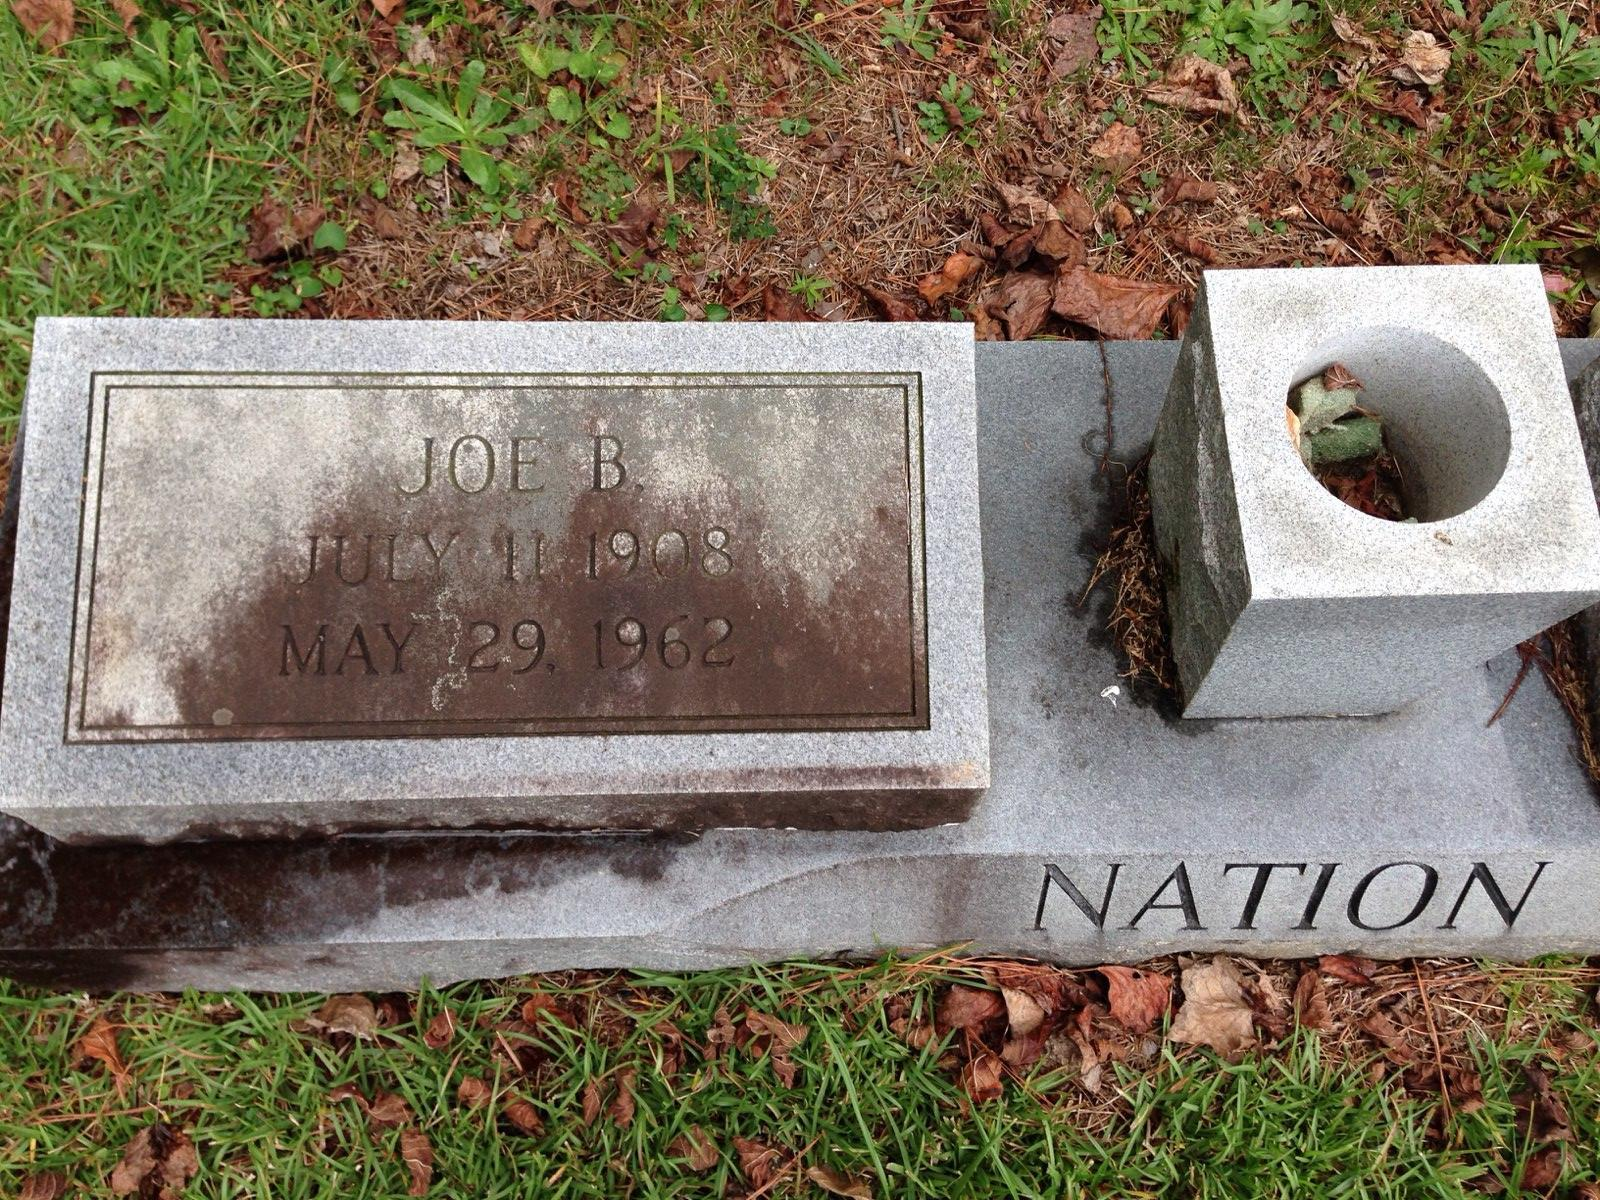flat: (0, 263, 1600, 989)
